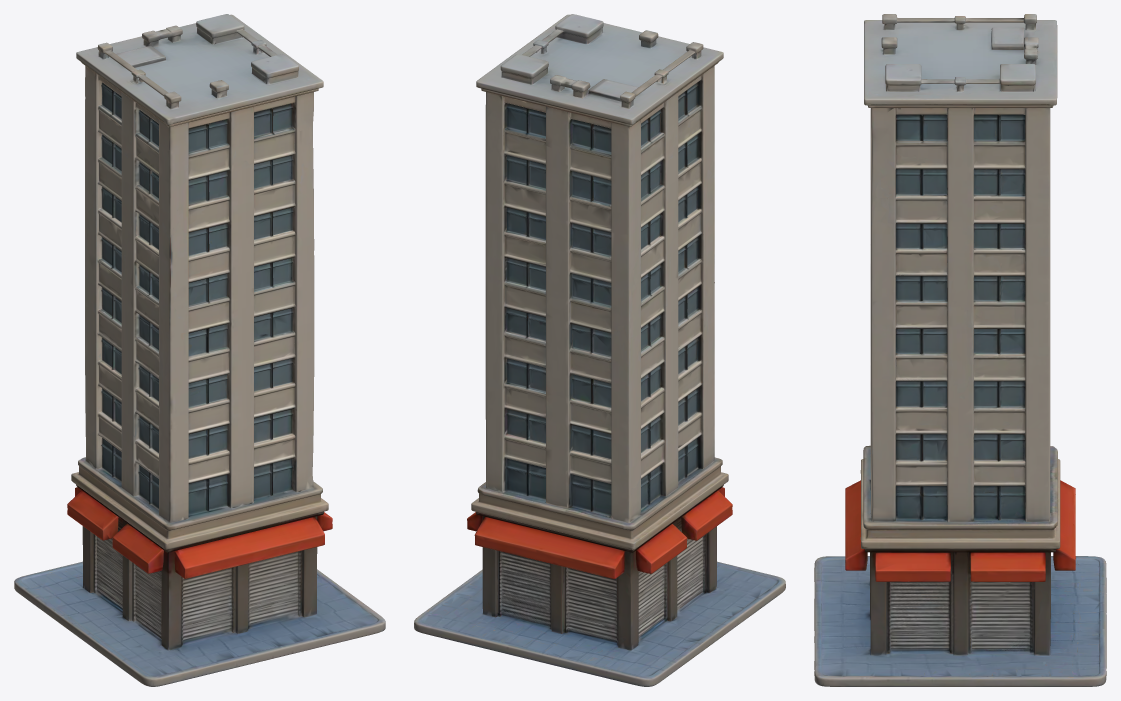
The model's file is A_tall_slim_commercial_tower_of_roll-up_shutter_shopfronts_at_the_base_and_narrow_tiled_floors_rising_above.glb.
The picture shows the model from 3 angles, left to right: view 1: azimuth 30°, elevation 25°; view 2: azimuth 150°, elevation 25°; view 3: azimuth 270°, elevation 25°; orthographic projection. The views are drawn at different scales.
Parts seen in each view (by area): view 1: node_0; view 2: node_0; view 3: node_0.
Boxes of the visible parts, x1,y1,x2,y2 form: node_0: (14, 14, 385, 686); node_0: (414, 14, 785, 686); node_0: (814, 14, 1106, 686).
Size of the model in its own units: 0.465 by 1.02 by 0.4656.
Materials: 1 (1 with a texture image).
